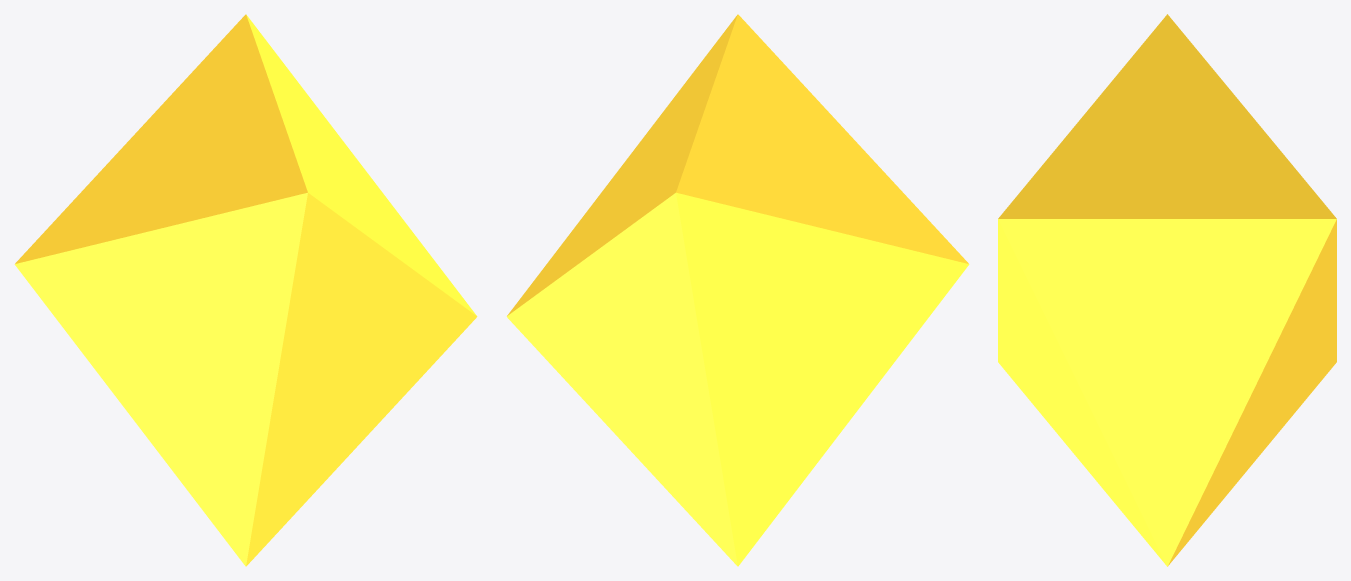
Rendered from solari_sunshield.glb.
The picture shows the model from 3 angles, left to right: view 1: azimuth 30°, elevation 25°; view 2: azimuth 150°, elevation 25°; view 3: azimuth 270°, elevation 25°; orthographic projection.
Visible parts, largest first — view 1: Pelvis; view 2: Pelvis; view 3: Pelvis.
Boxes of the visible parts, x1=… form: Pelvis: x1=14, y1=14, x2=477, y2=566; Pelvis: x1=506, y1=14, x2=969, y2=566; Pelvis: x1=998, y1=14, x2=1336, y2=566.
Size of the model in its own units: 1 by 1.8 by 1.
